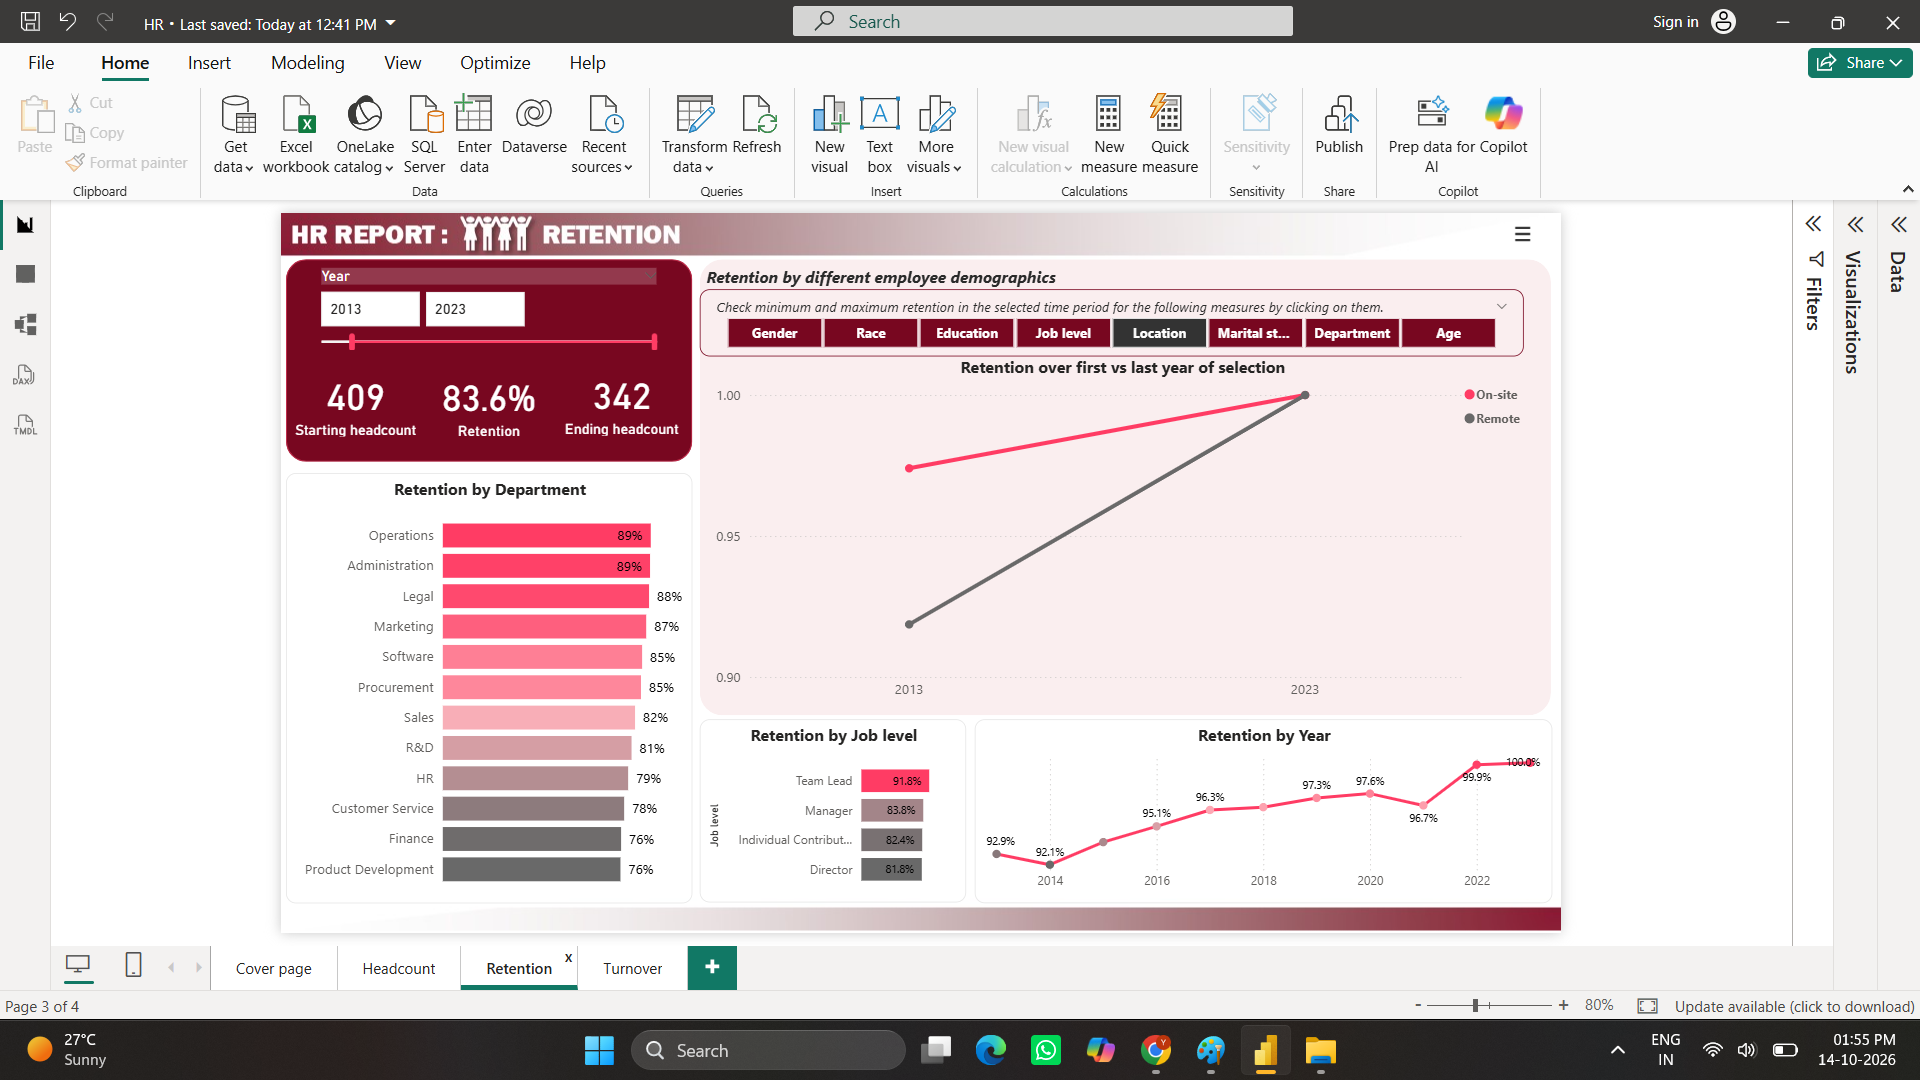

This screenshot's page, from the dashboard's own definition file:
{"tool":"powerbi","page":{"name":"Retention","canvas":[1280,720],"ordinal":2},"visuals":[{"type":"shape","box":[5,46.2,406.2,202.5],"z":0},{"type":"shape","box":[418.8,46.2,851.2,456.2],"z":1000},{"type":"card","fields":{"Values":["_measure.Retention"]},"box":[143.8,143.8,128.8,93.8],"z":2000},{"type":"slicer","fields":{"Values":["_Dates (Big).Year"]},"box":[27.5,50,361.2,100],"z":3000},{"type":"lineChart","fields":{"Category":["_Dates (Big).Year"],"Y":["_measure.Retention"]},"box":[693.8,506.2,577.5,183.8],"z":4000},{"type":"columnChart","fields":{"Category":["Job level_table.Job level"],"Y":["_measure.Retention"]},"box":[418.6,506.7,266.6,183.4],"z":5000},{"type":"clusteredBarChart","fields":{"Category":["Department_table.Department"],"Y":["_measure.Retention"]},"box":[5,260,406.2,430],"z":6000},{"type":"slicer","fields":{"Values":["Parameter.Parameter"]},"box":[418.8,76.2,823.8,67.5],"z":7000},{"type":"lineChart","title":"Minimum and Maximum retention","fields":{"Series":["Department_table.Department"],"Y":["_measure.Min Max retention"],"Category":["_Dates (Big).Year"]},"box":[430,142.5,823.8,353.8],"z":8000},{"type":"card","fields":{"Values":["_measure.Starting headcount"]},"box":[5,150,140,78.8],"z":9000},{"type":"card","fields":{"Values":["_measure.Ending headcount"]},"box":[271.2,150,140,77.5],"z":10000},{"type":"actionButton","box":[1204,0,76,39.8],"z":11000}]}

Visuals, with their boxes on the page's 1280x720 design canvas (x1, y1, x2, y2). These are canvas units, not pixel positions in the 1920x1080 screenshot, which may show the page scaled, cropped or inside an application window:
shape: [left=5, top=46, right=411, bottom=249]
shape: [left=419, top=46, right=1270, bottom=502]
card - _measure.Retention: [left=144, top=144, right=273, bottom=238]
slicer - _Dates (Big).Year: [left=28, top=50, right=389, bottom=150]
lineChart - _Dates (Big).Year x _measure.Retention: [left=694, top=506, right=1271, bottom=690]
columnChart - Job level_table.Job level x _measure.Retention: [left=419, top=507, right=685, bottom=690]
clusteredBarChart - Department_table.Department x _measure.Retention: [left=5, top=260, right=411, bottom=690]
slicer - Parameter.Parameter: [left=419, top=76, right=1243, bottom=144]
"Minimum and Maximum retention" lineChart: [left=430, top=142, right=1254, bottom=496]
card - _measure.Starting headcount: [left=5, top=150, right=145, bottom=229]
card - _measure.Ending headcount: [left=271, top=150, right=411, bottom=228]
actionButton: [left=1204, top=0, right=1280, bottom=40]
